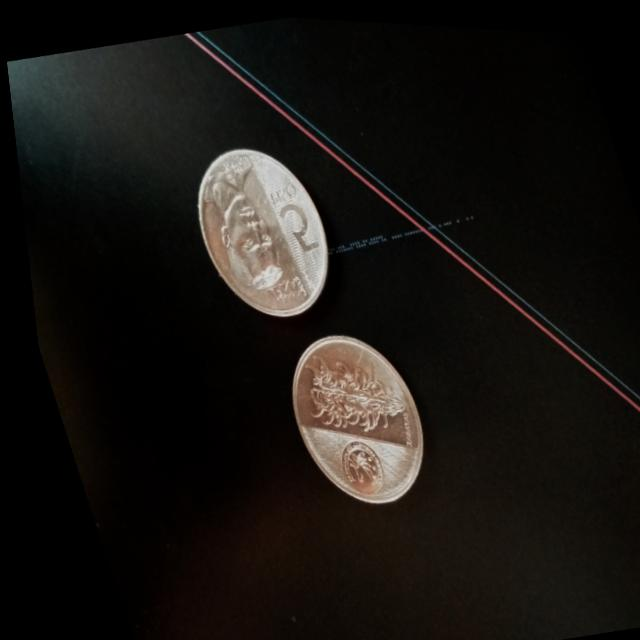5_New_Back: (279, 326, 413, 454)
5_New_Front: (248, 163, 325, 263)
